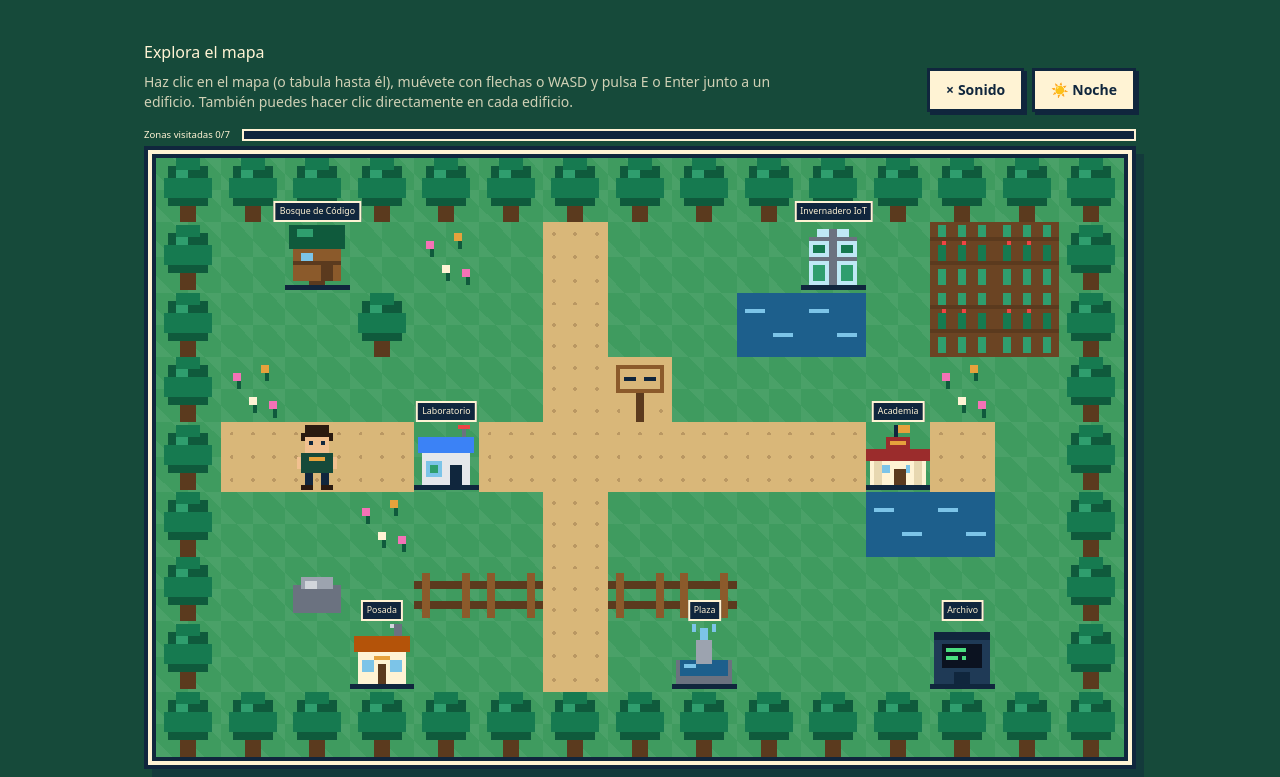
PortfolioWorld › closes an opened zone with Escape and returns focus to the map
Step 1. Click the element named "Mapa de Diecu's Engineering Quest" → [640, 457], box [152,154,1128,760]
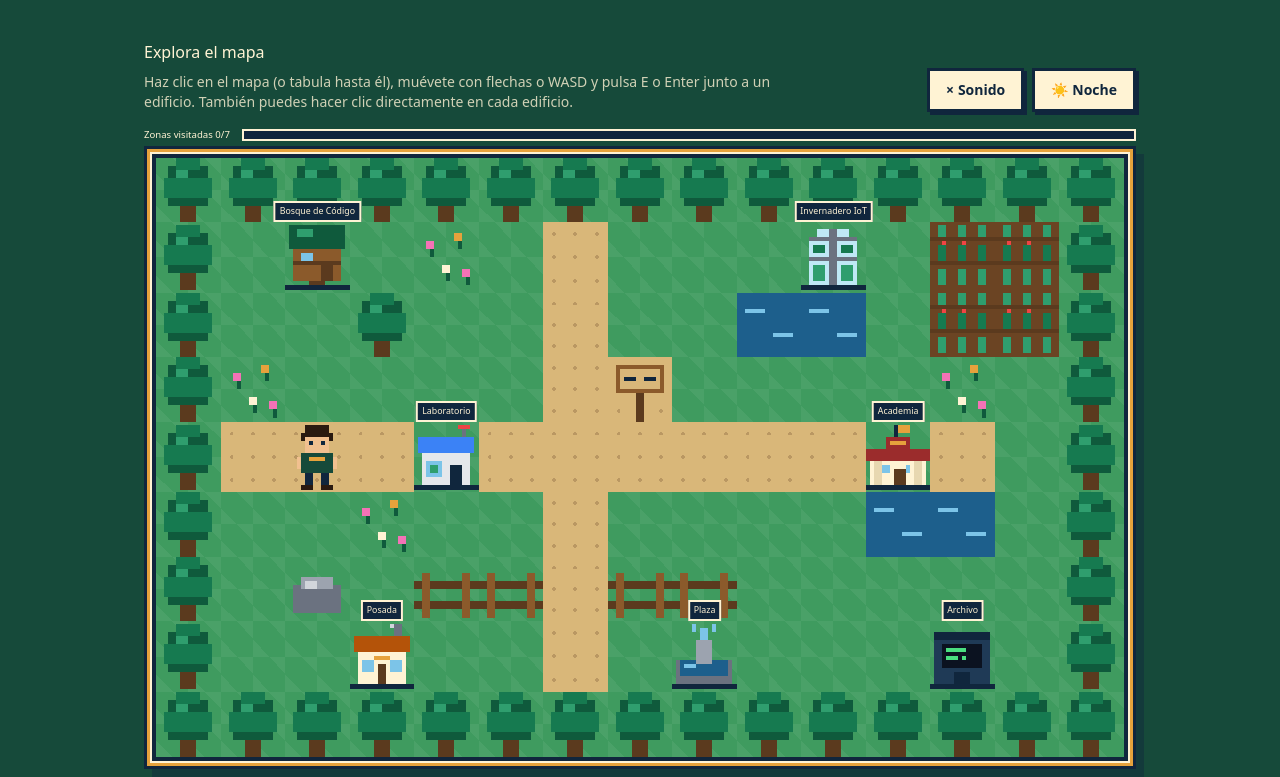
Step 2. Press Arrowright Enter
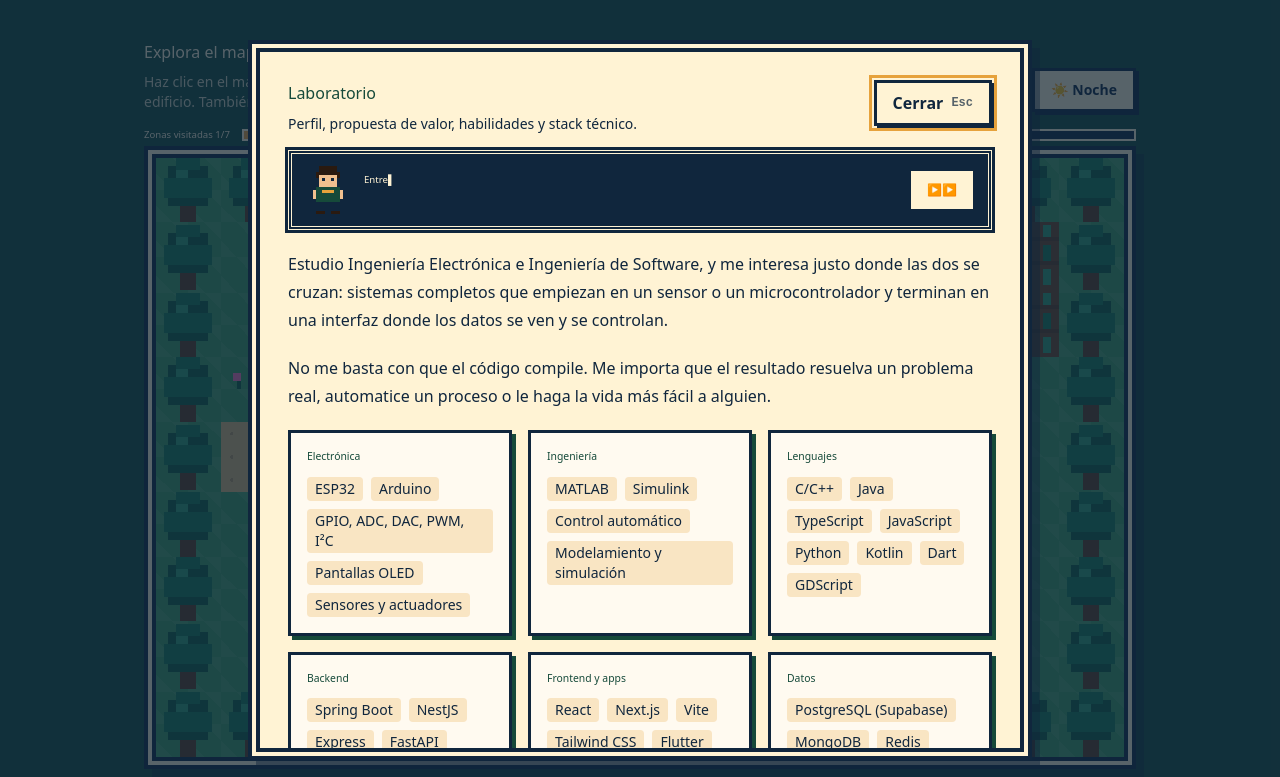
Expected: the dialog is shown, [256,48,1024,752]
Step 3. Press Escape
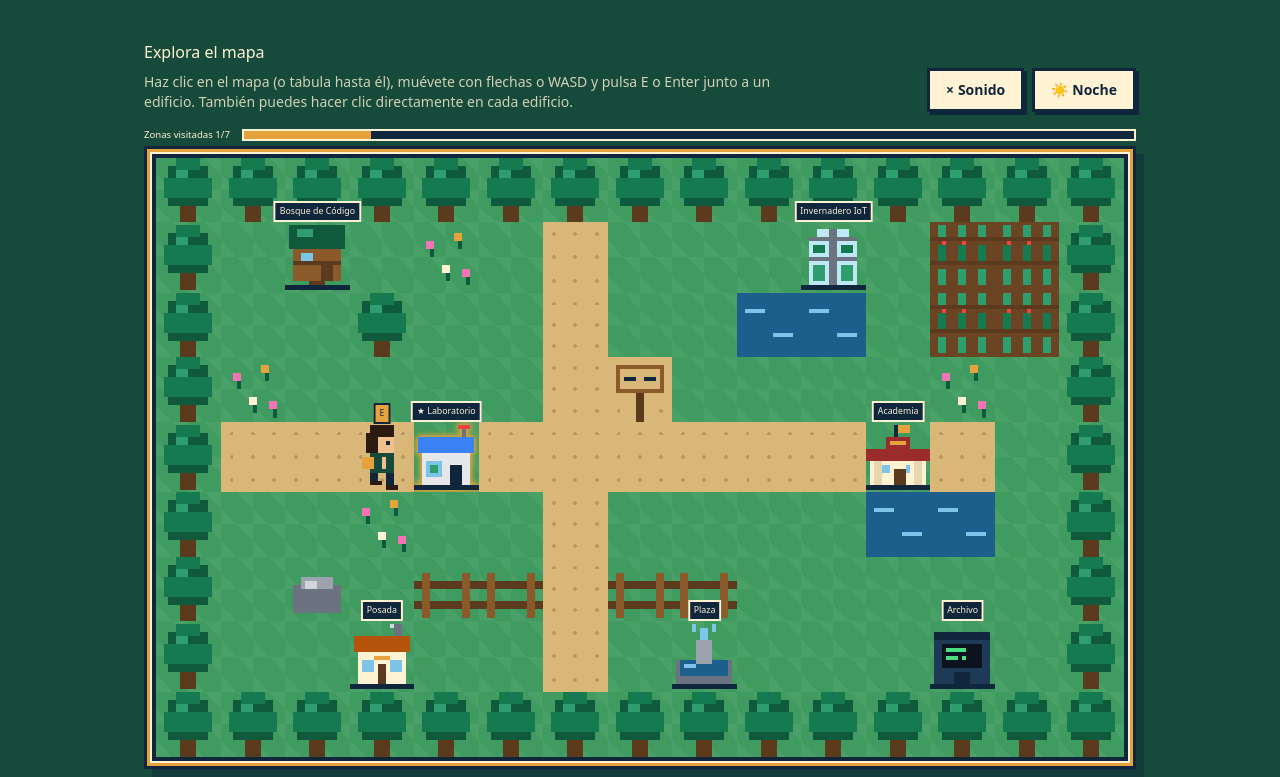
Expected: the dialog is gone
